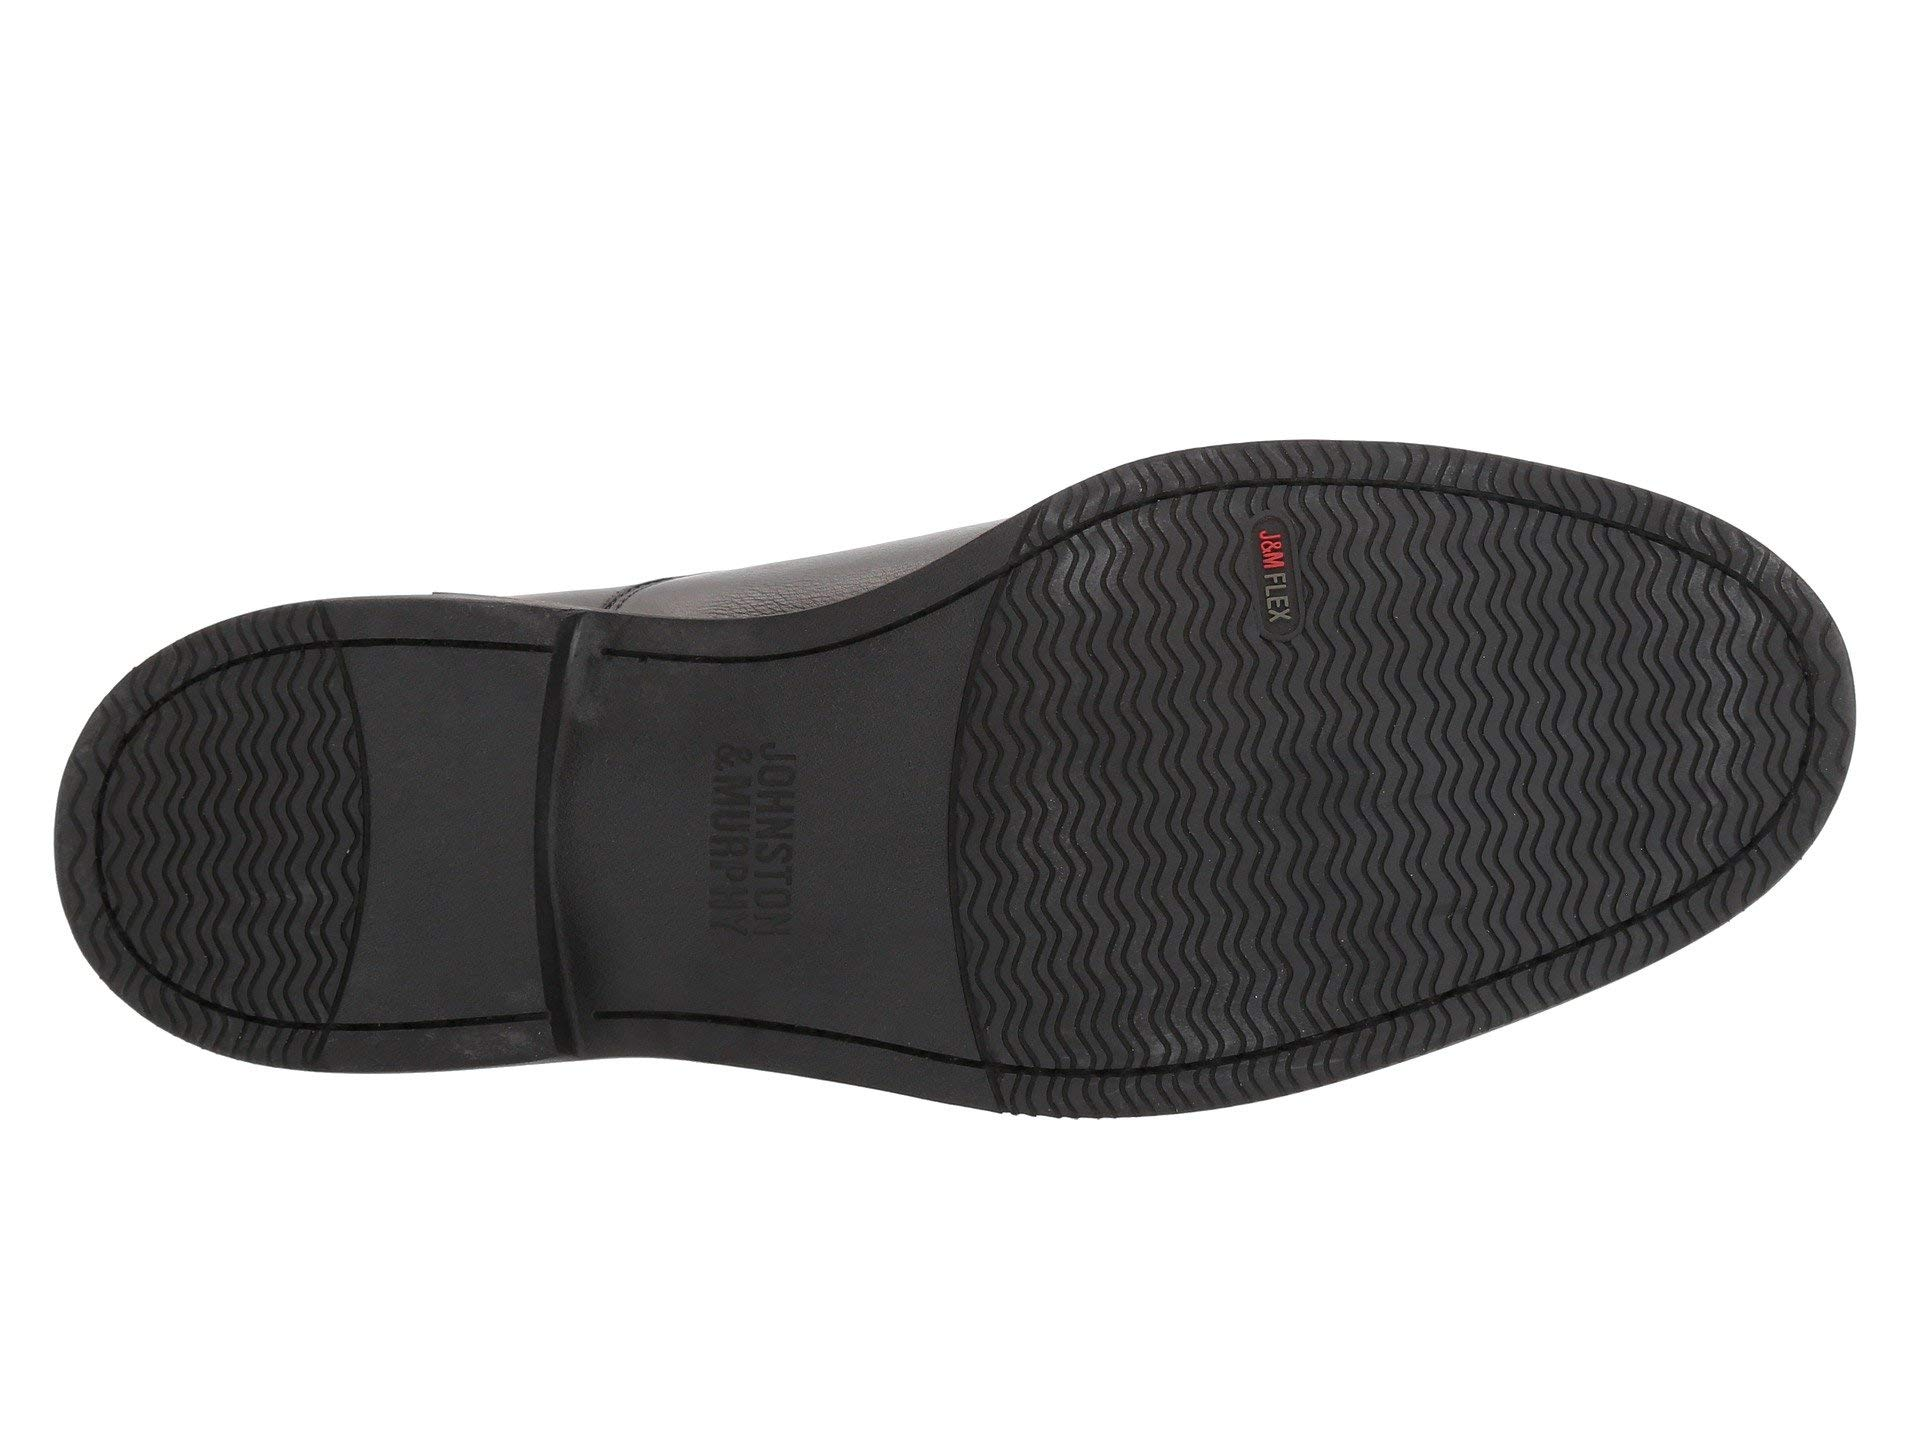chevron: (1073, 664, 1634, 892), (204, 632, 411, 994), (1064, 1007, 1370, 1072), (1231, 507, 1324, 641)
circle: (667, 700, 871, 982)
line: (204, 632, 411, 994), (1064, 1007, 1370, 1072)
quad: (1231, 507, 1324, 641)
text: (667, 700, 871, 982), (1231, 507, 1324, 641)
